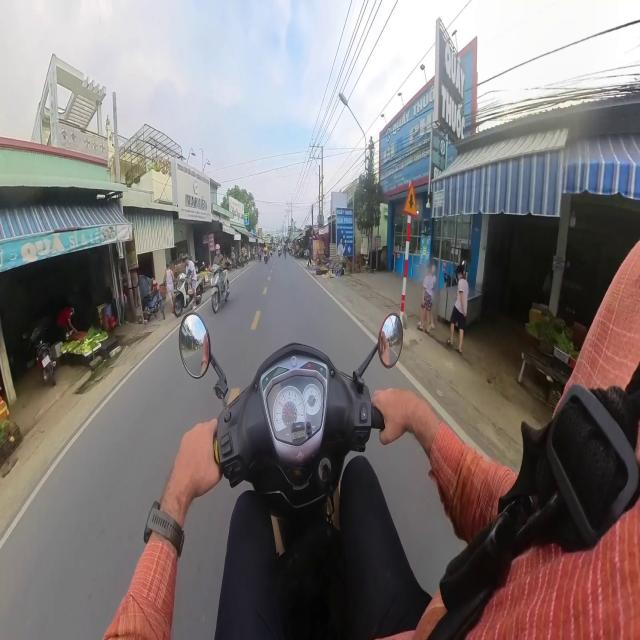motorcycle: (179, 314, 402, 638), (30, 328, 56, 386), (211, 265, 229, 313), (174, 274, 192, 317)
